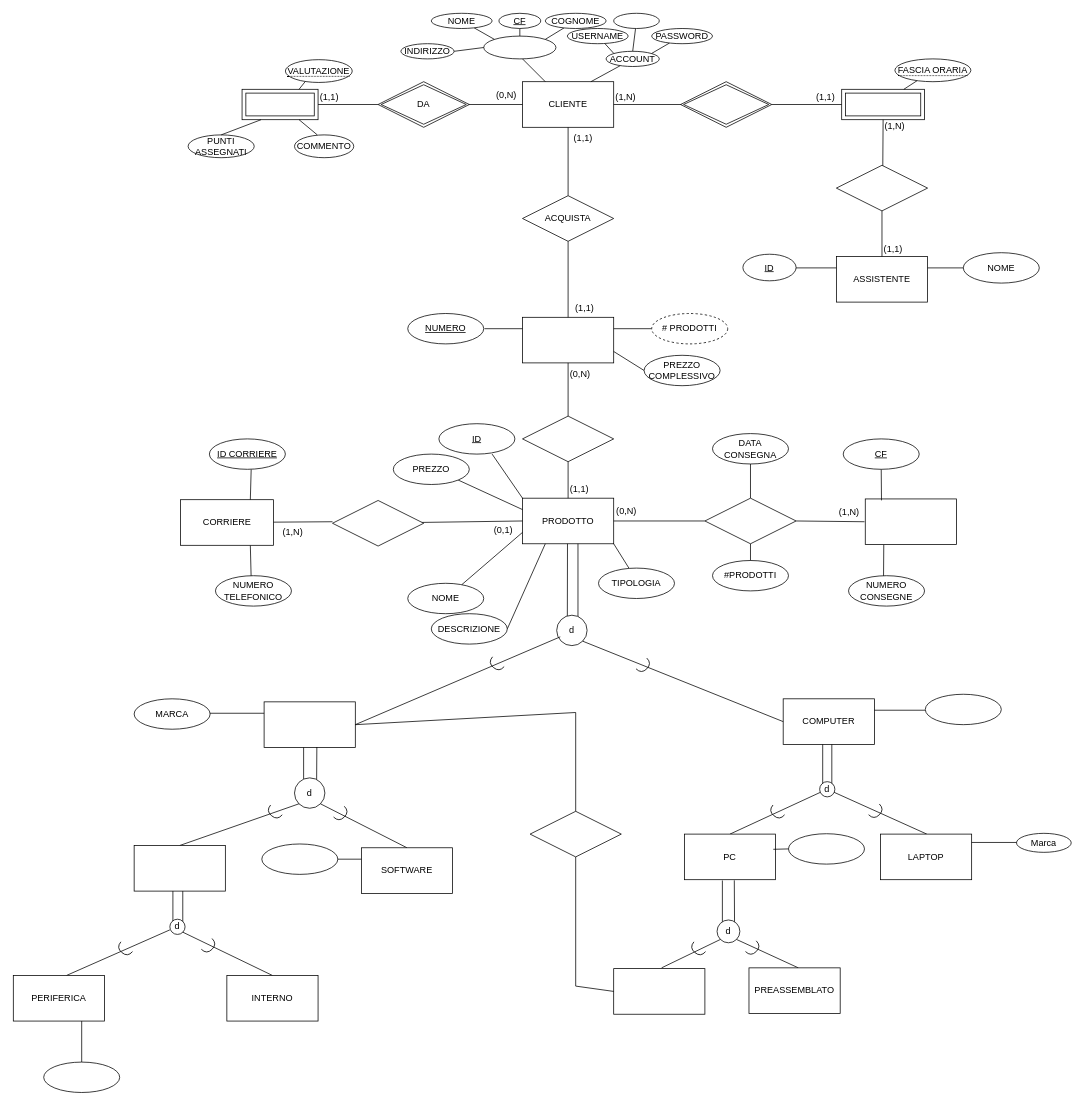
The diagram is 1085 pixels wide and 1106 high, and some of its shapes have lost their labels. Here are the shapes that lost their labels. From the top down, the centre of each, then its label:
At (636,20): "E-MAIL".
At (519,47): "DATI ANAGRAFICI".
At (279,104): "FEEDBACK".
At (726,104): "USA".
At (883,104): "HELPDESK".
At (882,188): "GESTITO DA".
At (568,340): "CARRELLO".
At (568,438): "CONTIENE".
At (378,523): "SPEDITO".
At (750,520): "FORNITO".
At (910,521): "FORNITORE".
At (309,724): "COMPONENTE".
At (963,709): "ANNI DI GARANZIA".
At (575,834): "HA".
At (826,848): "DIMENSIONE".
At (179,868): "HARDWARE".
At (299,858): "DURATA".
At (659,991): "DA ASSEMBLARE".
At (81,1076): "WIRELESS".
